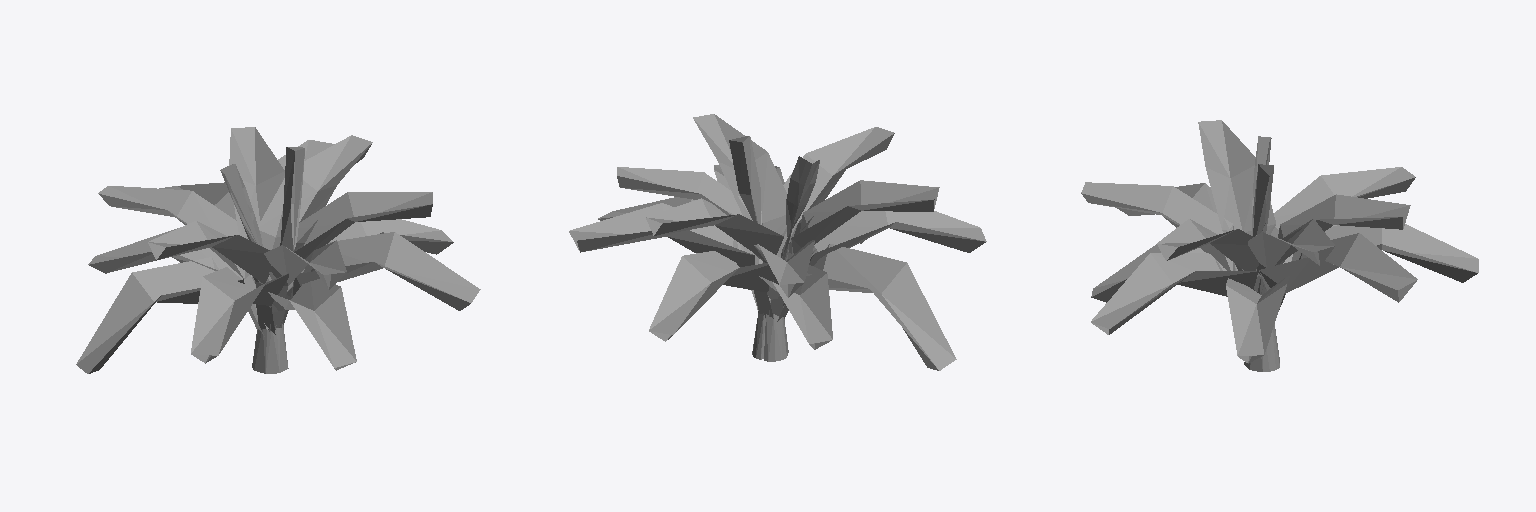
Rendered from ElephantEar_blend.obj.
3 views of the same model, side by side, from view 1: azimuth 30°, elevation 25°; view 2: azimuth 150°, elevation 25°; view 3: azimuth 270°, elevation 25° (orthographic).
Parts seen in each view (by area): view 1: Elephant128, Elephant256; view 2: Elephant128, Elephant256; view 3: Elephant128, Elephant256.
Boxes of the visible parts, x1=… form: Elephant128: x1=76, y1=127, x2=480, y2=373; Elephant256: x1=89, y1=144, x2=470, y2=373; Elephant128: x1=569, y1=114, x2=986, y2=370; Elephant256: x1=569, y1=133, x2=985, y2=370; Elephant128: x1=1081, y1=120, x2=1478, y2=355; Elephant256: x1=1081, y1=138, x2=1477, y2=371.
Bounding box in the file's own units: 3.06 × 1.73 × 2.96.